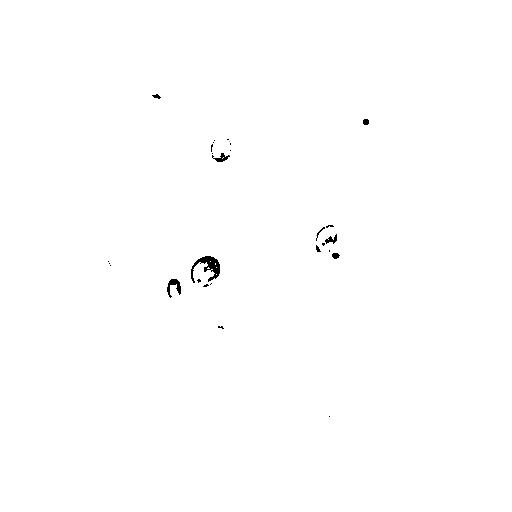micro-algae: (262, 183, 363, 278), (68, 1, 132, 57), (243, 222, 287, 263), (347, 103, 383, 137), (190, 253, 223, 288), (320, 240, 351, 271), (105, 239, 133, 269), (24, 238, 49, 269), (314, 223, 339, 253), (208, 135, 234, 163), (166, 278, 183, 301), (178, 101, 191, 115)
